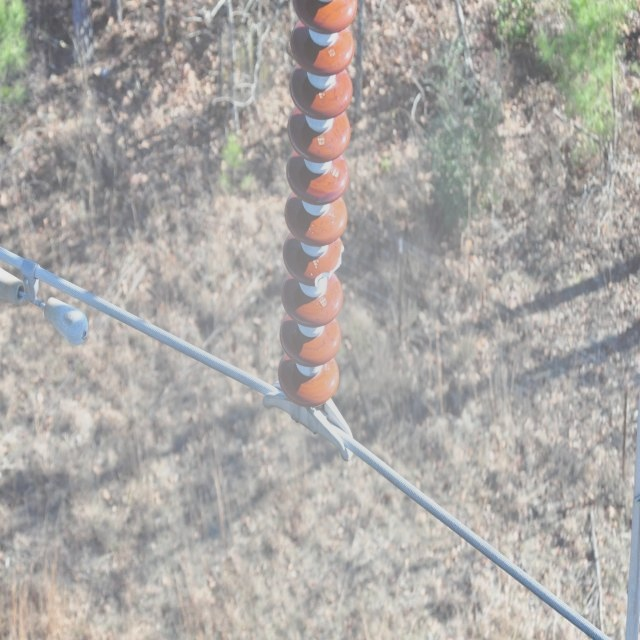broken: (309, 241, 346, 290)
insulator: (279, 0, 357, 405)
